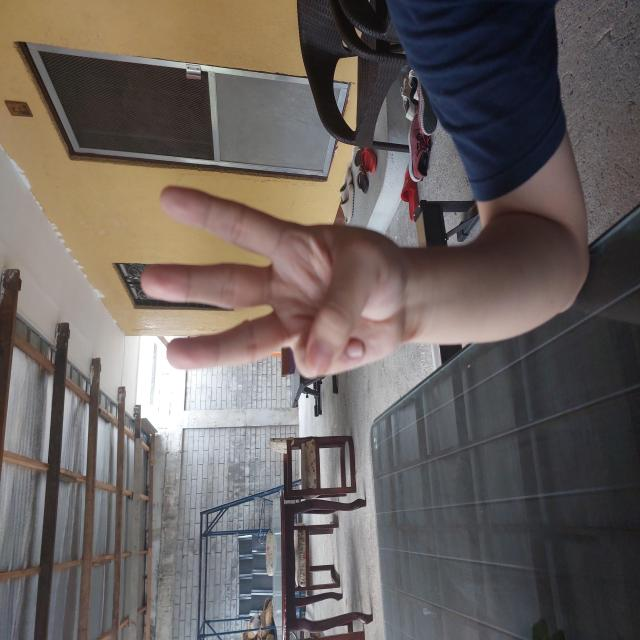W: (260, 138, 458, 413)
